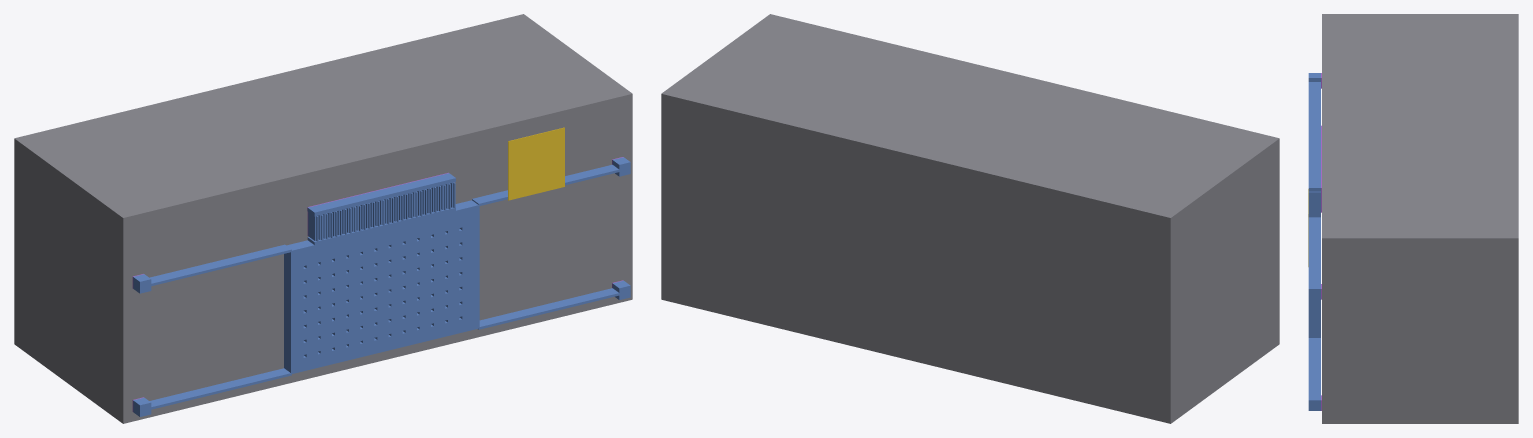
The model's file is accelerometer.obj.
3 renders of one model, left to right at view 1: azimuth 30°, elevation 25°; view 2: azimuth 150°, elevation 25°; view 3: azimuth 270°, elevation 25°, orthographic. The views are drawn at different scales.
Parts seen in each view (by area): view 1: HANDLE, DEVICE, METAL; view 2: HANDLE; view 3: HANDLE, DEVICE.
Boxes of the visible parts, x1,y1,x2,y2 form: HANDLE: (14, 14, 632, 423); DEVICE: (133, 157, 630, 416); METAL: (508, 127, 564, 200); HANDLE: (661, 14, 1279, 423); HANDLE: (1322, 14, 1518, 423); DEVICE: (1308, 73, 1320, 410).
Size of the model in its own units: 1080 by 417 by 428.
